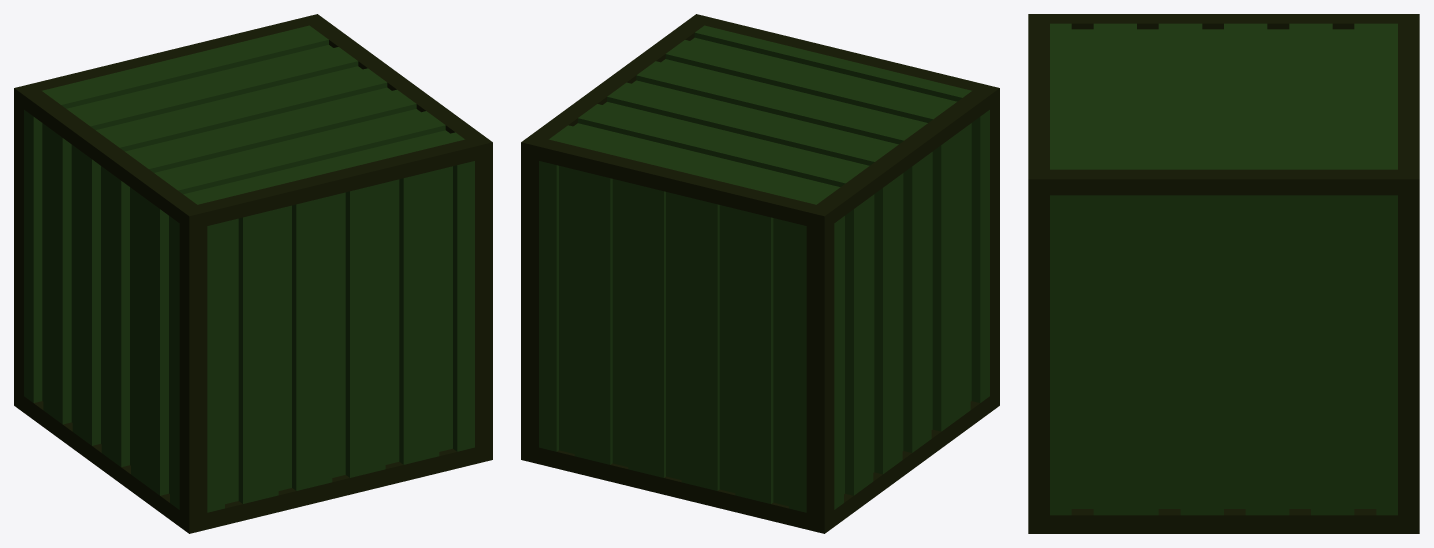
File: CargoPequeño.fbx
3 views of the same model, side by side, from view 1: azimuth 30°, elevation 25°; view 2: azimuth 150°, elevation 25°; view 3: azimuth 270°, elevation 25° (orthographic). The views are drawn at different scales.
Visible parts, largest first — view 1: Cube; view 2: Cube; view 3: Cube.
Boxes of the visible parts, x1,y1,x2,y2 form: Cube: [14, 14, 492, 533]; Cube: [521, 14, 999, 533]; Cube: [1028, 14, 1419, 533].
Size of the model in its own units: 357 by 357 by 357.
